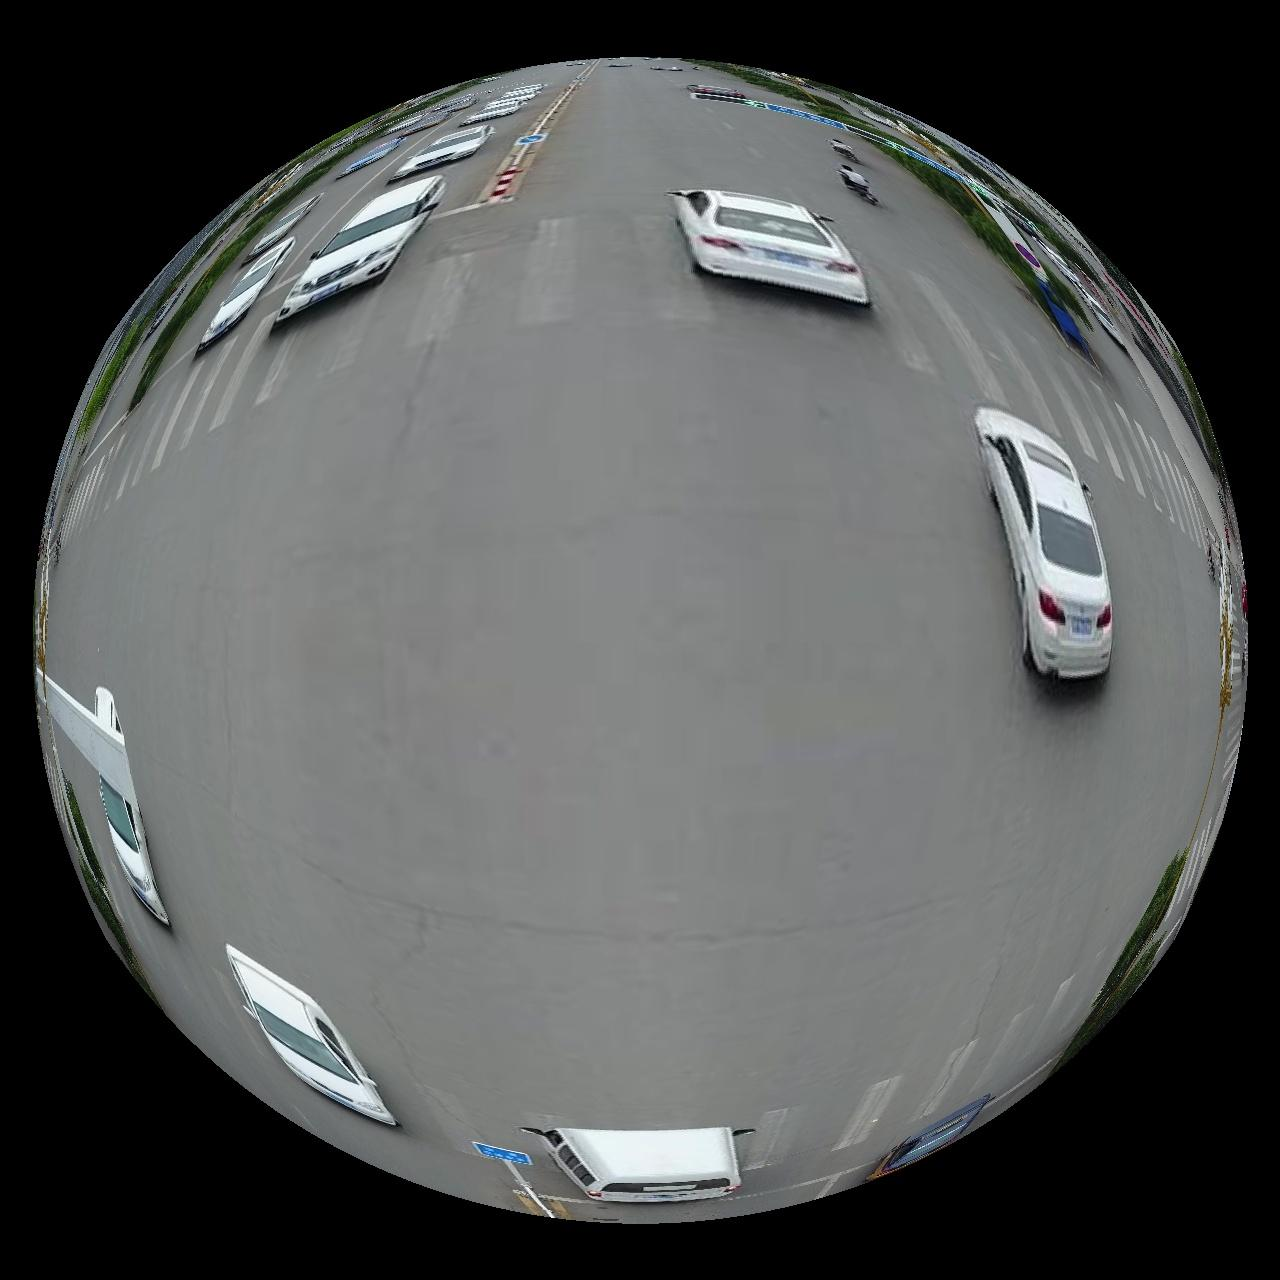cars: (976, 407, 1115, 678), (226, 946, 397, 1128), (275, 176, 445, 322), (672, 188, 870, 304), (89, 688, 167, 926), (530, 1129, 742, 1206), (195, 236, 294, 352), (870, 1098, 994, 1182), (391, 124, 494, 180)
trees: (1058, 848, 1192, 1070)
